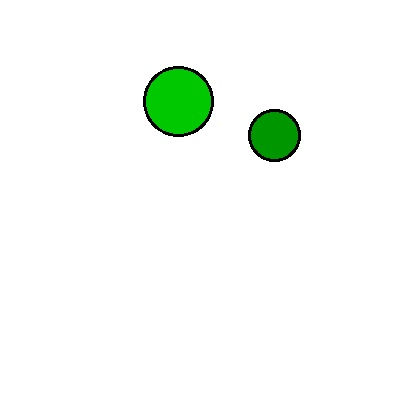circle: (131, 67, 225, 136), (249, 107, 299, 164)
